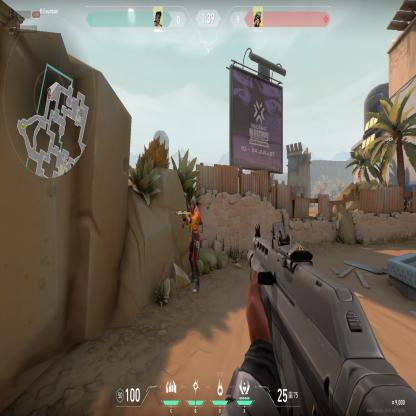enemy: (181, 193, 202, 294)
